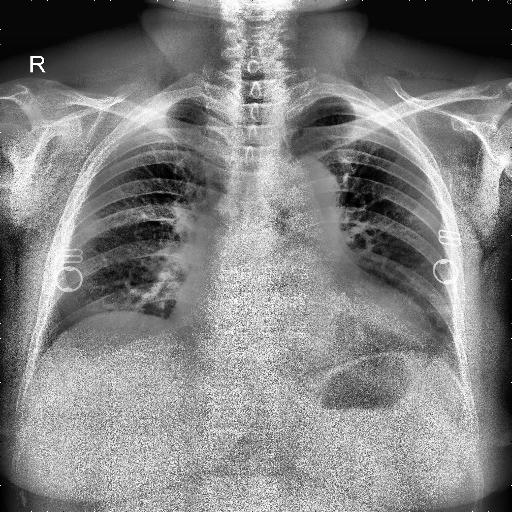0- Aortic enlargement: (265, 154, 340, 224), (258, 154, 336, 212), (278, 154, 338, 222)
3- Cardiomegaly: (170, 274, 428, 353), (178, 288, 428, 366), (168, 291, 434, 338)
